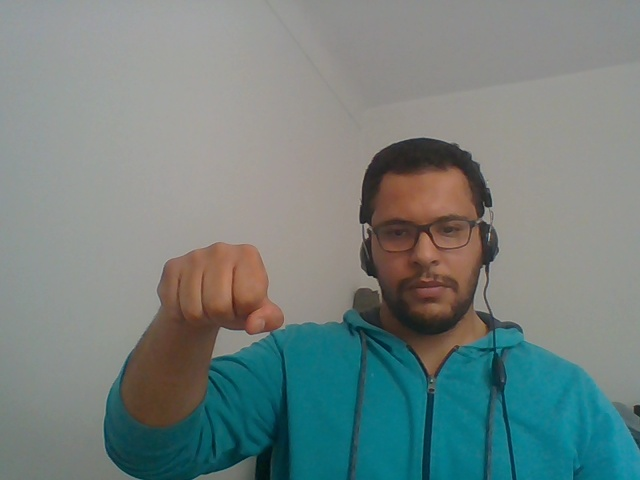yes: (129, 219, 296, 368)
